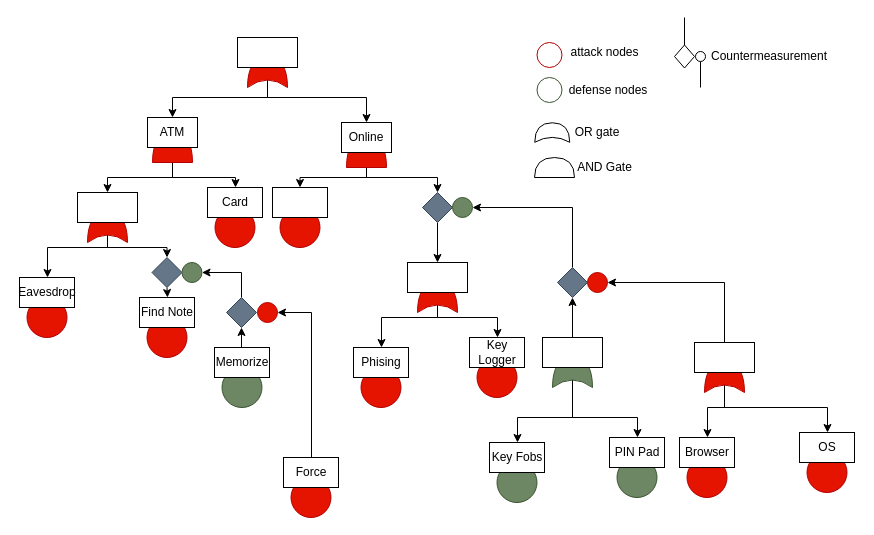
Some shapes in this 874 by 535 pixel diagram are drawn without their labels. The shapes that lost their labels are listed below. From the top down, each one's box as (x1, y1, x2, y2) in pixels, then its label:
(246, 56, 288, 88): Bank Account
(272, 186, 328, 218): Username
(86, 212, 128, 242): PIN
(416, 282, 458, 312): Password
(552, 356, 592, 388): 2FA
(704, 362, 744, 392): Malware
